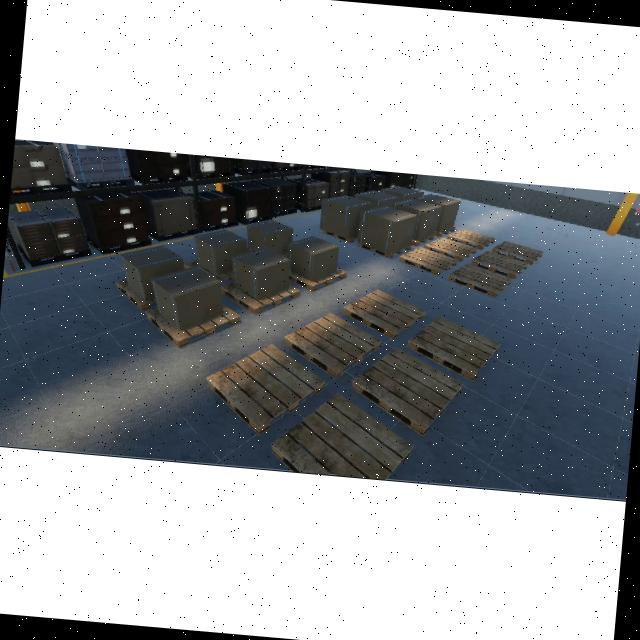wooden_pallet: (205, 342, 325, 435), (351, 347, 463, 437), (283, 312, 381, 379), (407, 316, 499, 381), (342, 288, 424, 340), (145, 305, 240, 347), (221, 281, 299, 314), (446, 262, 512, 297), (398, 246, 457, 276), (470, 250, 529, 278), (289, 267, 346, 293), (491, 239, 543, 264), (423, 237, 477, 261), (446, 229, 495, 250), (356, 242, 412, 258)
